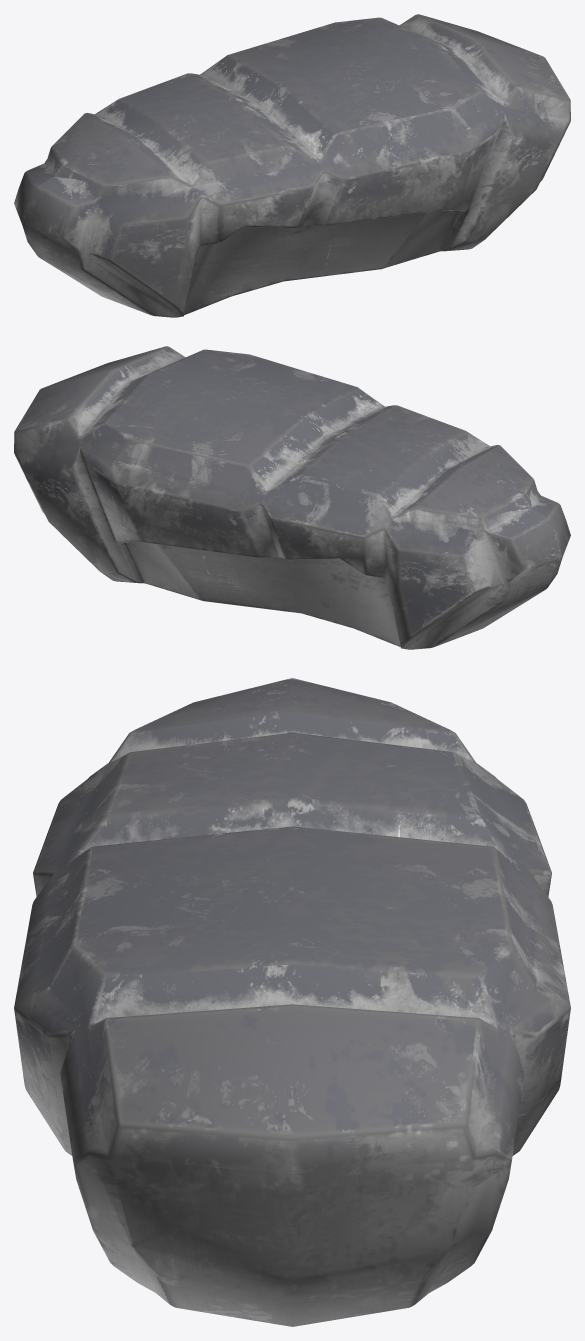
File: bot_part_01.gltf
The picture shows the model from 3 angles, top to bottom: view 1: azimuth 30°, elevation 25°; view 2: azimuth 150°, elevation 25°; view 3: azimuth 270°, elevation 25°; orthographic projection. The views are drawn at different scales.
Visible parts, largest first — view 1: bot_part_01; view 2: bot_part_01; view 3: bot_part_01.
Part boxes in pixels (x1,y1,x2,y2): bot_part_01: (14,14,570,317); bot_part_01: (14,346,570,649); bot_part_01: (14,678,570,1326).
Bounding box in the file's own units: 2.5 × 0.8715 × 1.23.
1 material, 1 textured.
